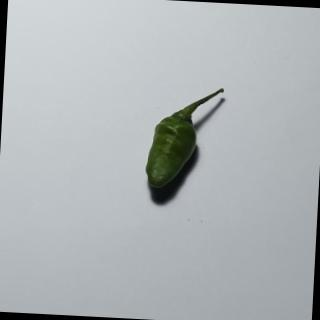Cabai Hijau: (137, 81, 233, 204)
